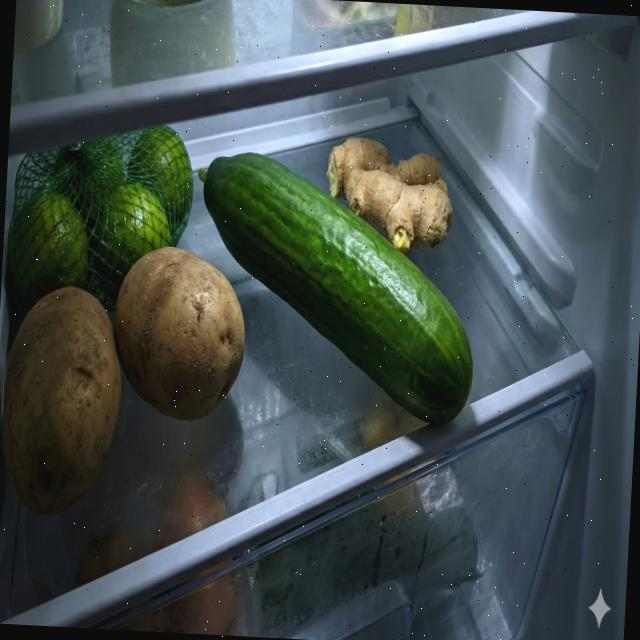cucumber: (184, 148, 484, 430)
ginger: (322, 134, 458, 258)
lime: (5, 117, 196, 316)
potato: (0, 237, 250, 524)
